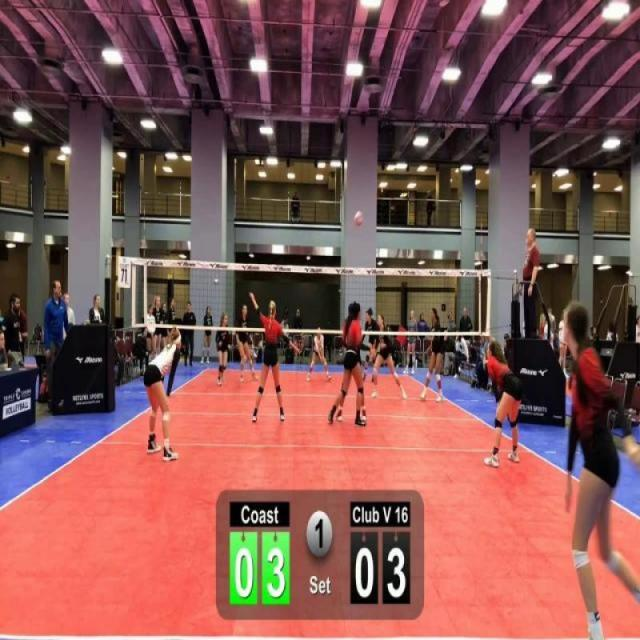volleyball: (354, 208, 364, 230)
